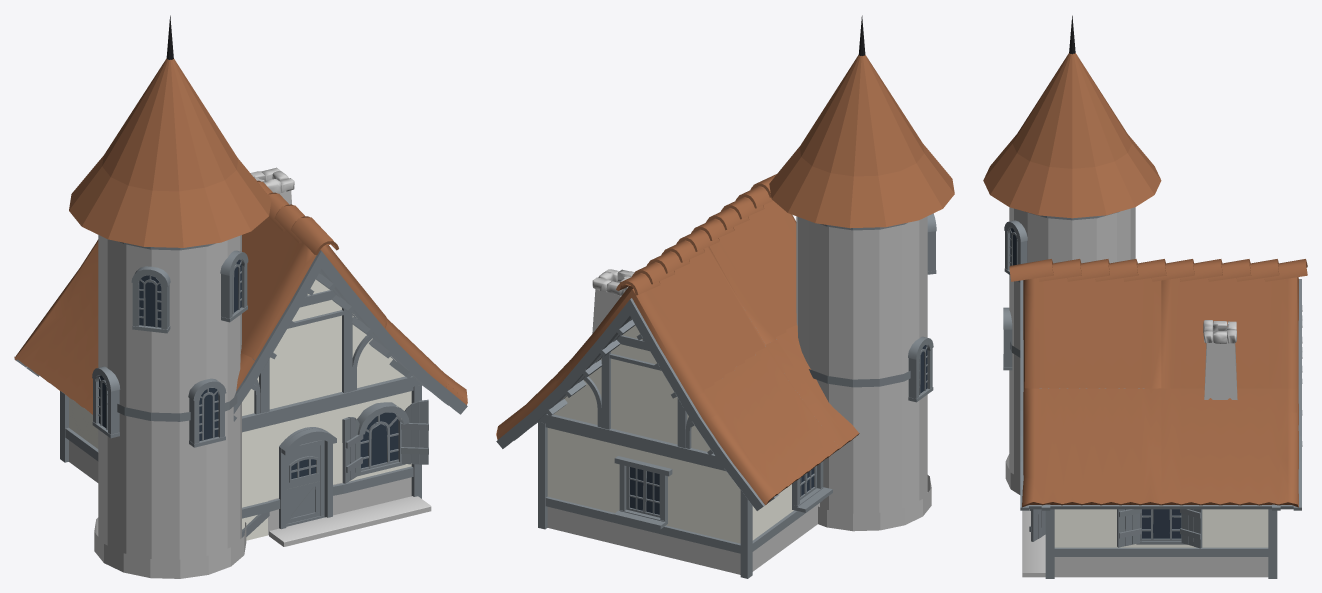
The model's file is cottage_tower.gltf.
3 views of the same model, side by side, from view 1: azimuth 30°, elevation 25°; view 2: azimuth 150°, elevation 25°; view 3: azimuth 270°, elevation 25° (orthographic). The views are drawn at different scales.
Parts seen in each view (by area): view 1: Tower.029, Roof_RoundTiles_6x6.025, TowerRoof.037, Roof_Front_Brick6.026, Wall_Plaster_Window_Wide_Round.005, Wall_Plaster_Door_Round.002, TowerPlinth.030, Door_1_Round.004, Wall_Plaster_Straight.001, Window_Wide_Round1.006, WindowShutters_Wide_Round_Open.007, Window_Thin_Round1.034 (+10 smaller); view 2: Roof_RoundTiles_6x6.025, Tower.029, TowerRoof.037, Roof_Front_Brick6.027, Wall_Plaster_Straight_Base.008, Wall_Plaster_Straight_Base.011, Wall_Plaster_Window_Wide_Flat.009, Window_Wide_Flat1.010, TowerPlinth.030, Wall_Plaster_Straight_Base.012, Window_Thin_Round1.036, Prop_Chimney.028 (+5 smaller); view 3: Roof_RoundTiles_6x6.025, TowerRoof.037, Tower.029, Wall_Plaster_Straight_Base.020, Wall_Plaster_Straight_Base.016, Prop_Chimney.028, Wall_Plaster_Window_Wide_Round.017, WindowShutters_Wide_Round_Open.019, Window_Wide_Round1.018, Window_Thin_Round1.035, Prop_ExteriorBorder_Straight1.040, Corner_Exterior_Wood.022 (+3 smaller).
Boxes of the visible parts, x1,y1,x2,y2 form: Tower.029: (98, 235, 241, 559); Roof_RoundTiles_6x6.025: (14, 178, 467, 414); TowerRoof.037: (69, 58, 271, 247); Roof_Front_Brick6.026: (233, 273, 422, 428); Wall_Plaster_Window_Wide_Round.005: (341, 387, 413, 513); Wall_Plaster_Door_Round.002: (268, 404, 343, 535); TowerPlinth.030: (94, 517, 246, 578); Door_1_Round.004: (286, 439, 324, 526); Wall_Plaster_Straight.001: (242, 422, 269, 540); Window_Wide_Round1.006: (357, 402, 409, 475); WindowShutters_Wide_Round_Open.007: (342, 399, 428, 483); Window_Thin_Round1.034: (131, 266, 170, 333); Roof_RoundTiles_6x6.025: (496, 174, 859, 510); Tower.029: (796, 216, 927, 513); TowerRoof.037: (769, 55, 954, 228); Roof_Front_Brick6.027: (537, 319, 722, 466); Wall_Plaster_Straight_Base.008: (545, 424, 611, 543); Wall_Plaster_Straight_Base.011: (677, 456, 740, 574); Wall_Plaster_Window_Wide_Flat.009: (609, 439, 678, 559); Window_Wide_Flat1.010: (613, 456, 672, 529); TowerPlinth.030: (818, 475, 931, 531); Wall_Plaster_Straight_Base.012: (752, 489, 788, 571); Window_Thin_Round1.036: (908, 336, 933, 402); Prop_Chimney.028: (592, 269, 634, 333); Roof_RoundTiles_6x6.025: (1009, 259, 1307, 510); TowerRoof.037: (983, 53, 1161, 218); Tower.029: (1009, 207, 1135, 477); Wall_Plaster_Straight_Base.020: (1198, 509, 1268, 577); Wall_Plaster_Straight_Base.016: (1054, 509, 1124, 577); Prop_Chimney.028: (1203, 320, 1237, 399); Wall_Plaster_Window_Wide_Round.017: (1124, 544, 1198, 577); WindowShutters_Wide_Round_Open.019: (1117, 509, 1202, 548); Window_Wide_Round1.018: (1136, 509, 1185, 544); Window_Thin_Round1.035: (1004, 220, 1027, 282); Prop_ExteriorBorder_Straight1.040: (1022, 541, 1045, 577); Corner_Exterior_Wood.022: (1045, 509, 1054, 578).
Size of the model in its own units: 9.82 by 13.81 by 8.74.
